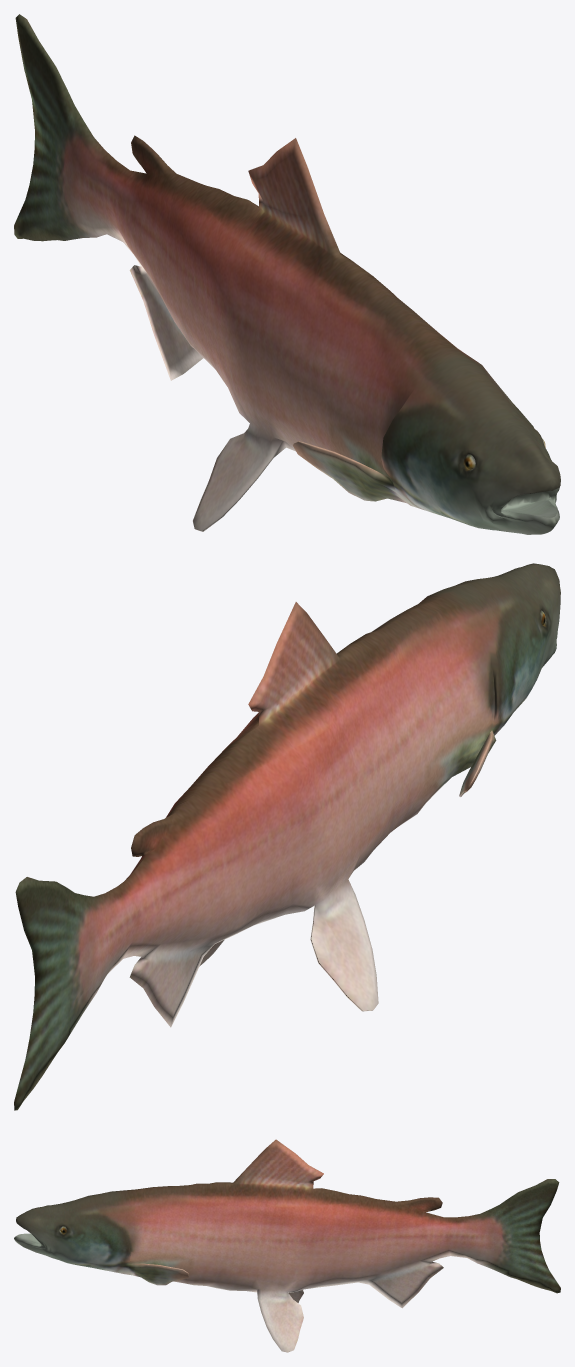
File: Salmon.fbx
3 renders of one model, top to bottom at view 1: azimuth 30°, elevation 25°; view 2: azimuth 150°, elevation 25°; view 3: azimuth 270°, elevation 25°, orthographic. The views are drawn at different scales.
Parts seen in each view (by area): view 1: sal_body, sal_mouth; view 2: sal_body; view 3: sal_body.
Boxes of the visible parts, box(x1,y1,x2,y2) form: sal_body: box(14, 14, 560, 534); sal_mouth: box(501, 489, 557, 517); sal_body: box(14, 563, 560, 1110); sal_body: box(14, 1139, 560, 1352).
Bounding box in the file's own units: 0.0946 × 0.1895 × 0.4902.
